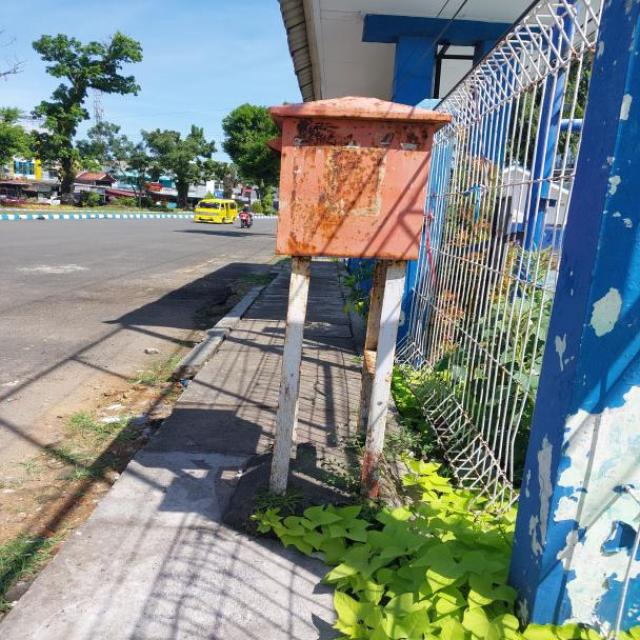barrier ahead at: (255, 94, 448, 482)
